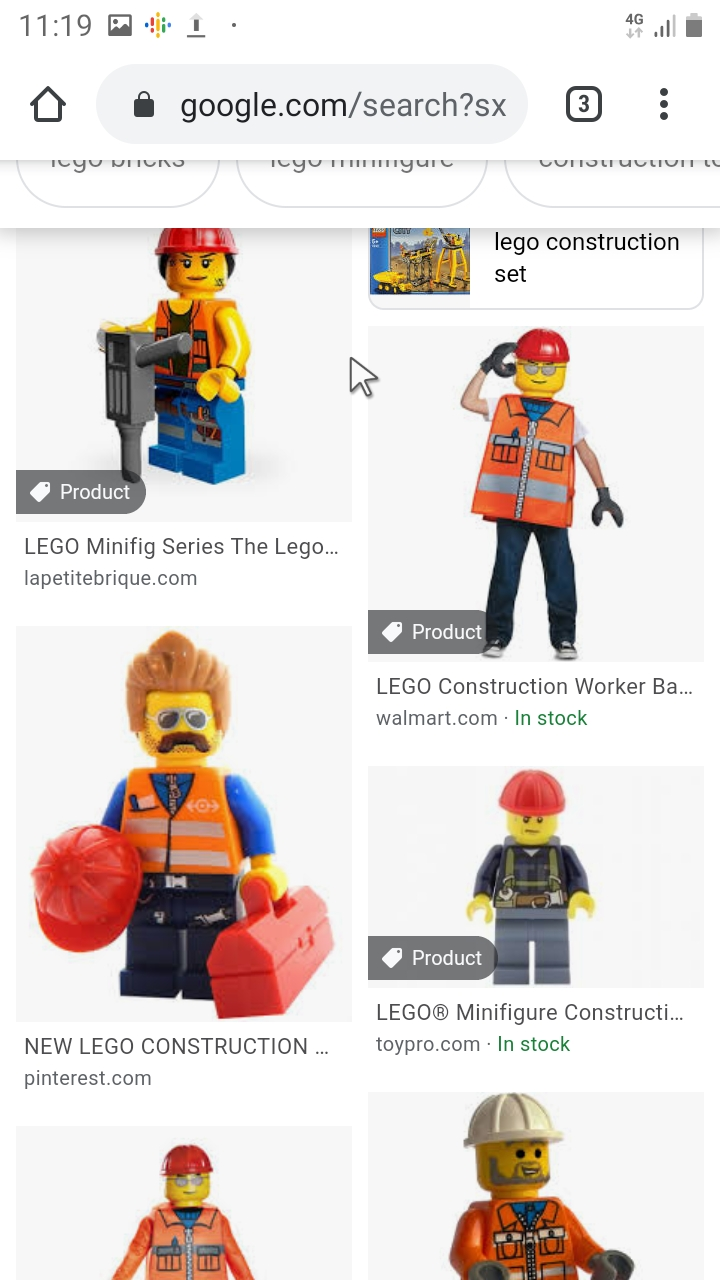pedestrian: (98, 621, 286, 1010), (449, 323, 635, 663), (94, 225, 268, 492), (437, 1090, 637, 1280), (464, 772, 602, 992), (108, 1127, 266, 1276)
